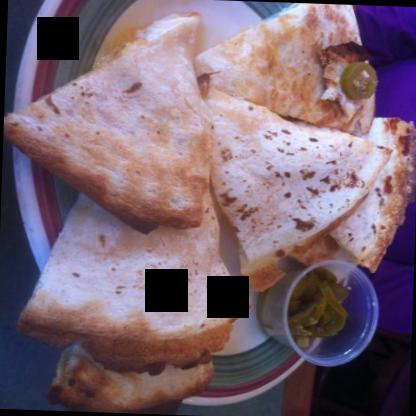toast bread: (13, 110, 250, 372), (0, 12, 198, 232), (212, 101, 392, 286), (195, 0, 377, 130)
